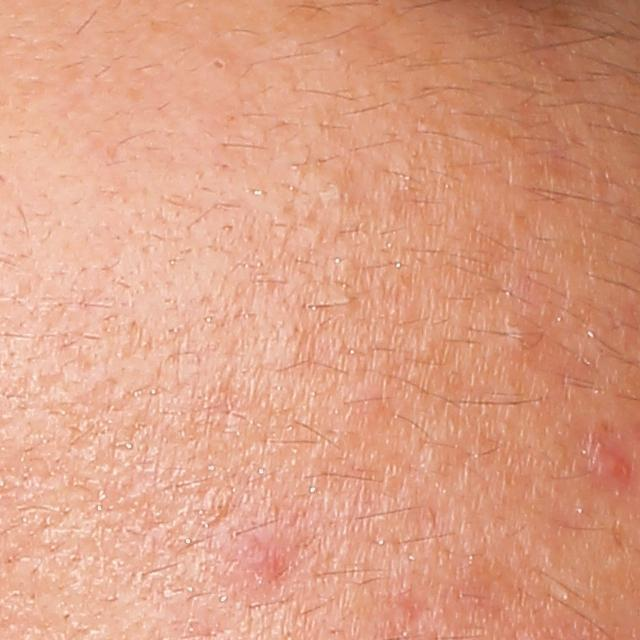comedo: (208, 55, 230, 75)
papule: (217, 522, 290, 585), (584, 433, 634, 484)
